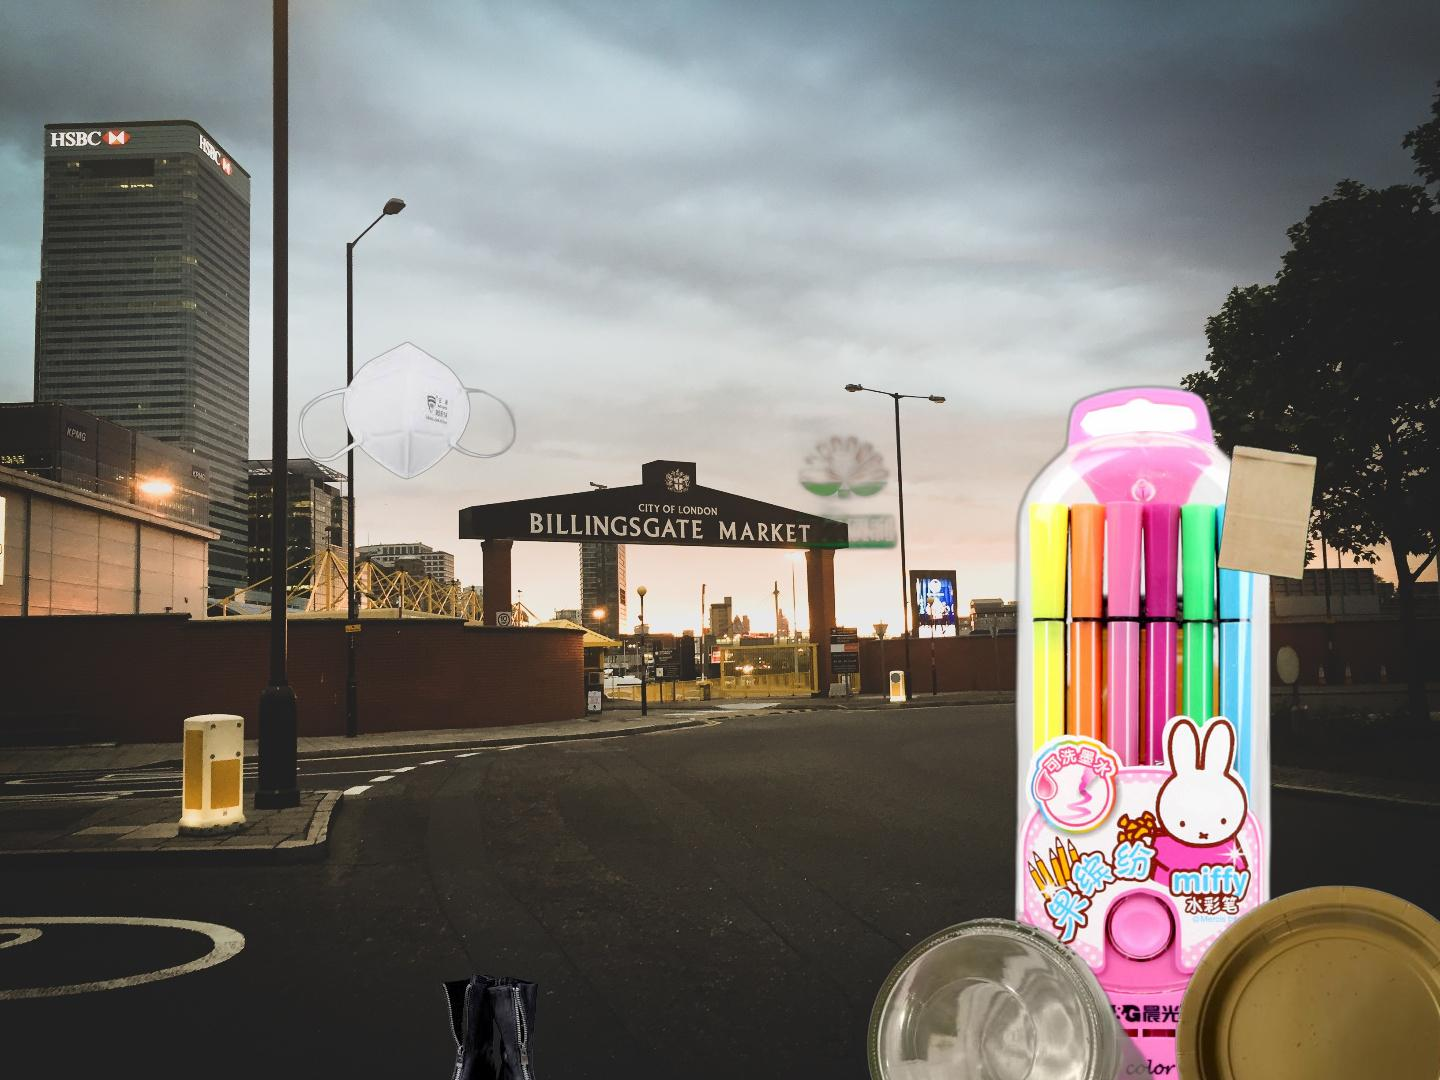glass: (863, 914, 1166, 1080)
paper: (1171, 881, 1440, 1080)
paper-bag: (1214, 439, 1321, 582)
penholder: (740, 372, 1278, 1080)
shoes: (410, 970, 571, 1080)
trash: (296, 339, 518, 482)
